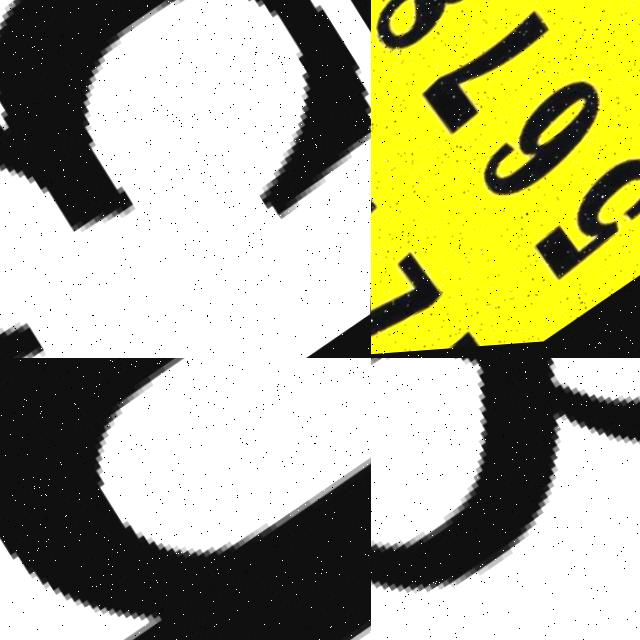1: (371, 159, 430, 349)
3: (0, 0, 371, 358)
5: (492, 127, 640, 320)
6: (442, 61, 638, 241)
7: (385, 0, 595, 166)
8: (371, 358, 640, 640), (371, 0, 530, 99)
N: (0, 358, 371, 640)
